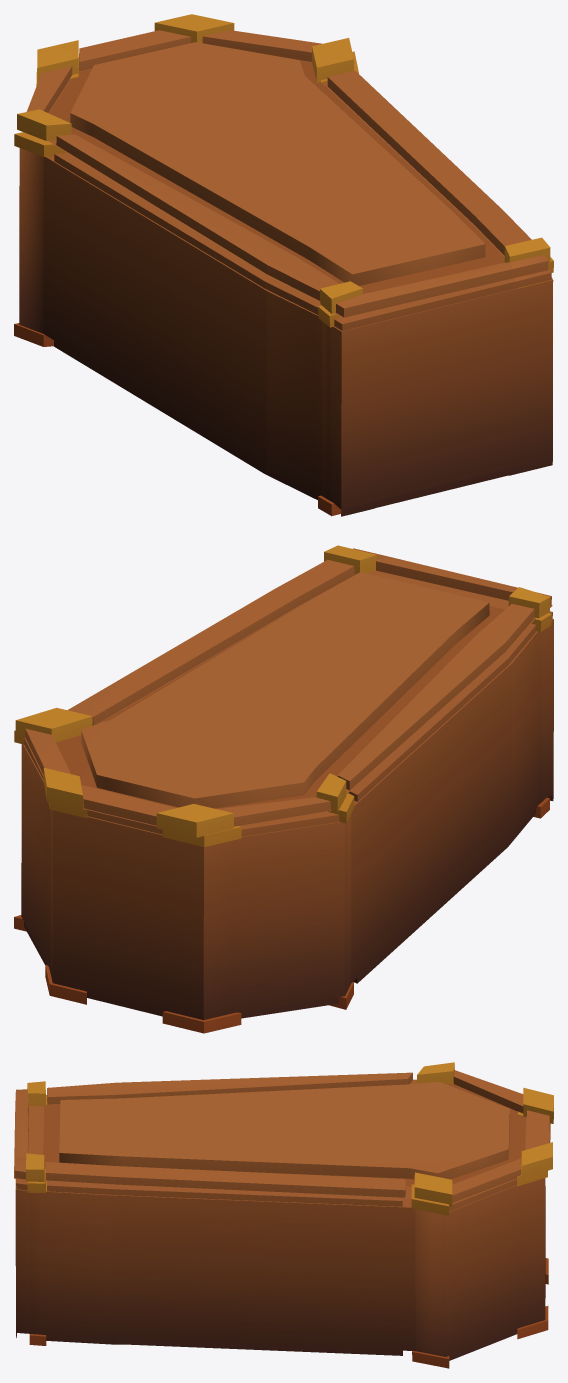
The model's file is coffinclosed.fbx.
3 views of the same model, one above another, from view 1: azimuth 30°, elevation 25°; view 2: azimuth 150°, elevation 25°; view 3: azimuth 270°, elevation 25° (orthographic). The views are drawn at different scales.
Visible parts, largest first — view 1: coffinclosed; view 2: coffinclosed; view 3: coffinclosed.
Part boxes in pixels (box(x1,y1,x2,y2)): coffinclosed: box(14, 14, 553, 516); coffinclosed: box(14, 545, 553, 1033); coffinclosed: box(14, 1062, 553, 1368).
Bounding box in the file's own units: 12.24 × 7.58 × 20.95.
